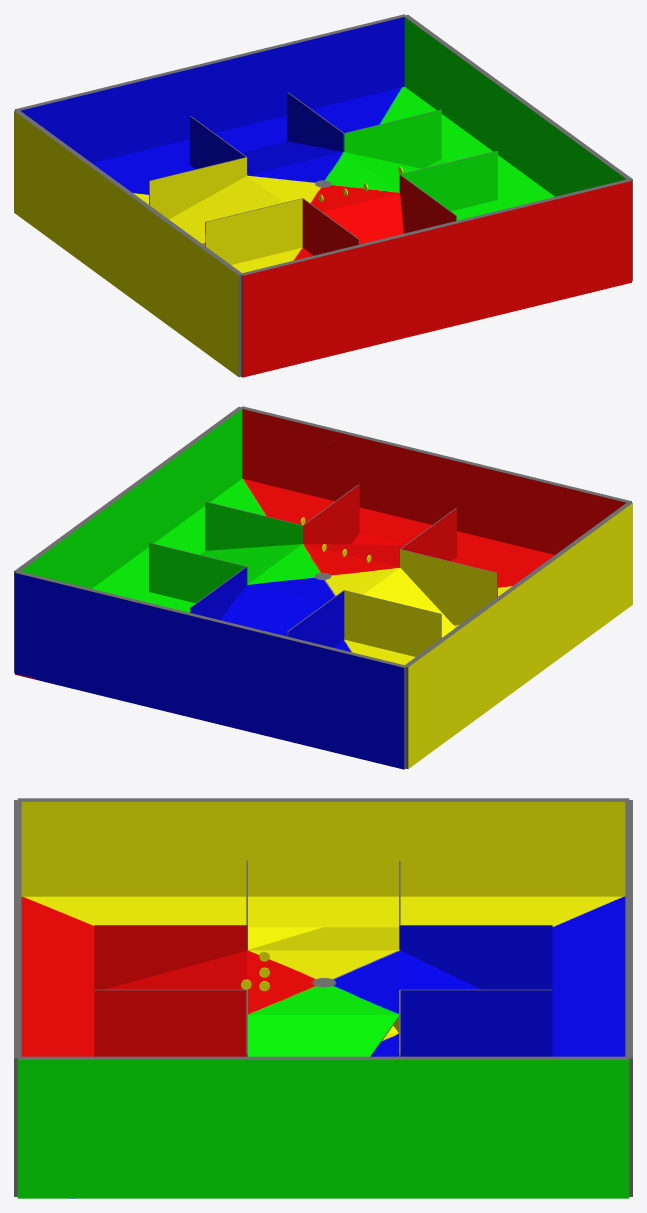
File: Map001.fbx
The picture shows the model from 3 angles, top to bottom: view 1: azimuth 30°, elevation 25°; view 2: azimuth 150°, elevation 25°; view 3: azimuth 270°, elevation 25°; orthographic projection. The views are drawn at different scales.
Visible parts, largest first — view 1: Map001; view 2: Map001; view 3: Map001.
Part boxes in pixels (x1,y1,x2,y2): Map001: [14, 14, 632, 377]; Map001: [14, 406, 632, 769]; Map001: [14, 798, 632, 1198].
Size of the model in its own units: 2025 by 2025 by 502.
